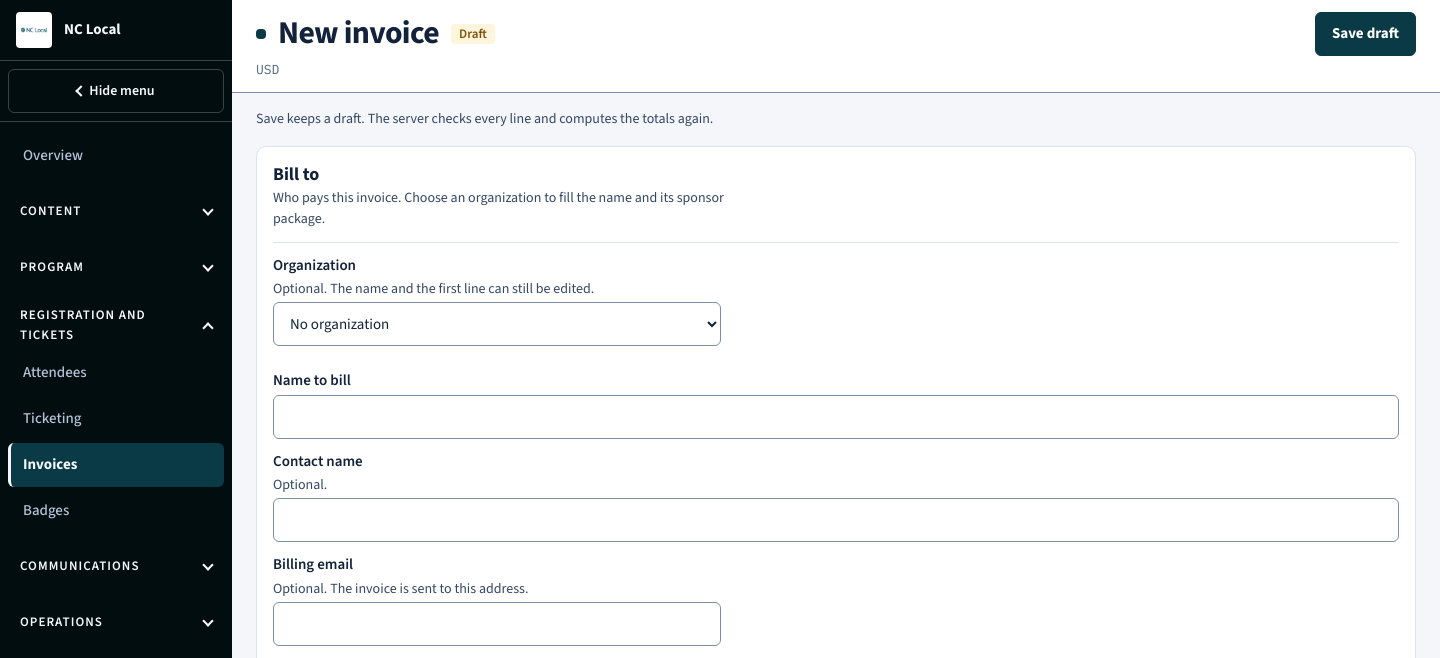
Test: the invoice editor › marks a price it cannot read, moves focus there and sends nothing
The width and height of the screenshot is (1440, 658).
Check: the heading "New invoice" is shown, box [278,15,439,53]
Type "Example Press" into the field labelled "Name to bill". click: coordinates (836, 417)
box: [273,395,1399,439]
(page scrolled)
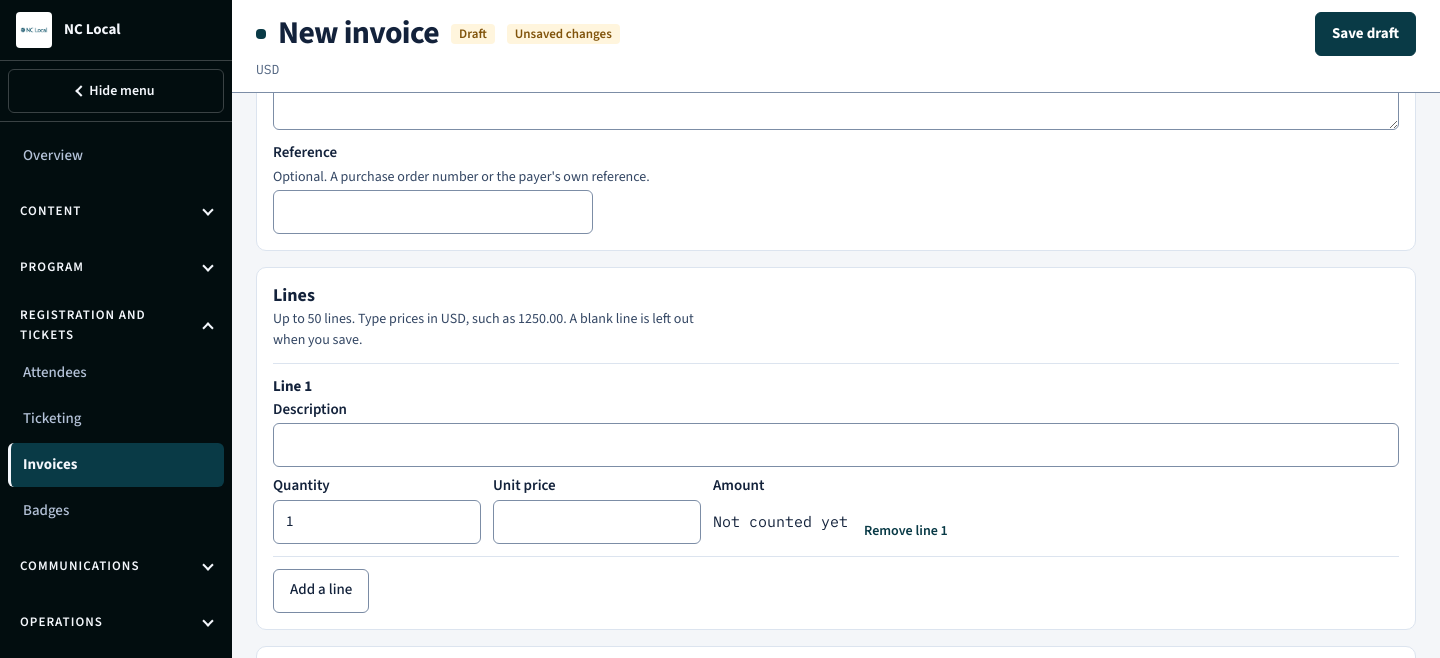
Type "Booth" into the field named "Line 1 description". click: coordinates (836, 445)
box: [273,423,1399,467]
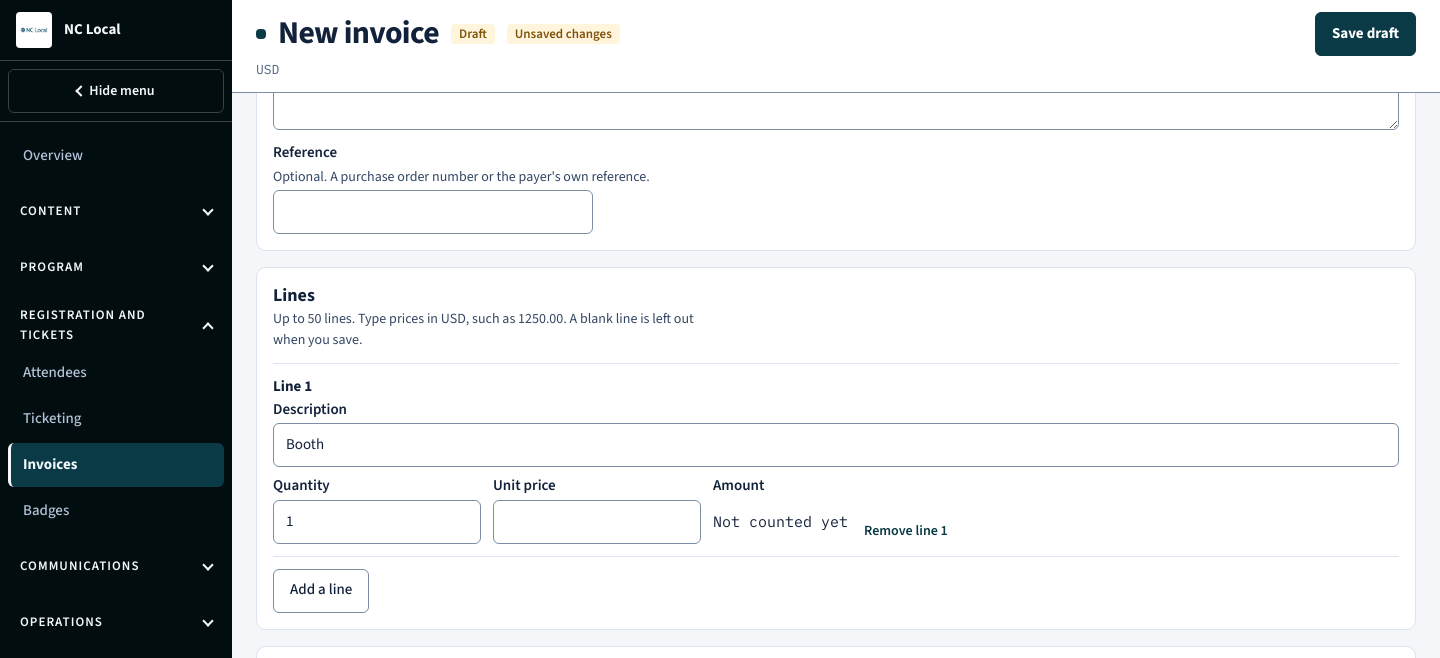
Type "12.345" into the field named "Line 1 unit price". click: coordinates (597, 522)
box: [493,500,701,544]
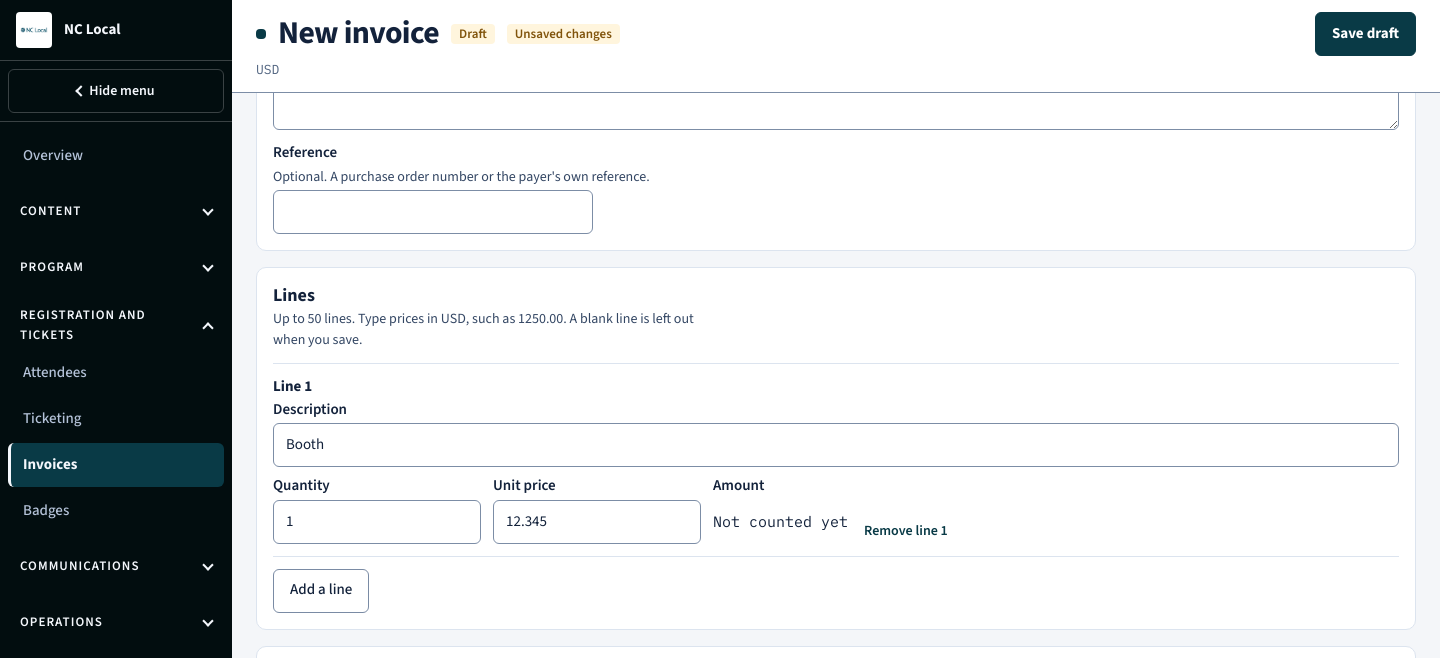
Click the button "Save draft". click: coordinates (1365, 34)
box: [1315,12,1416,56]
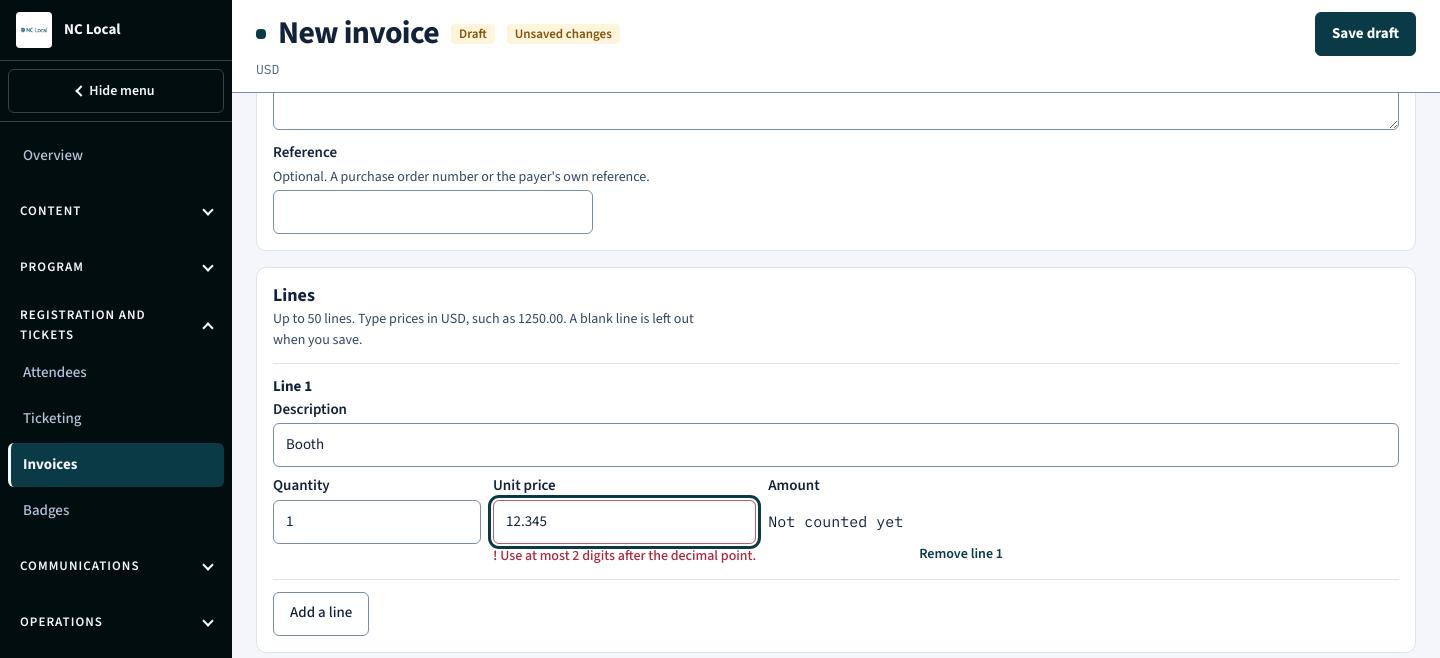
Check: the text "Use at most 2 digits after the decimal point." is shown, box [500,546,756,566]
